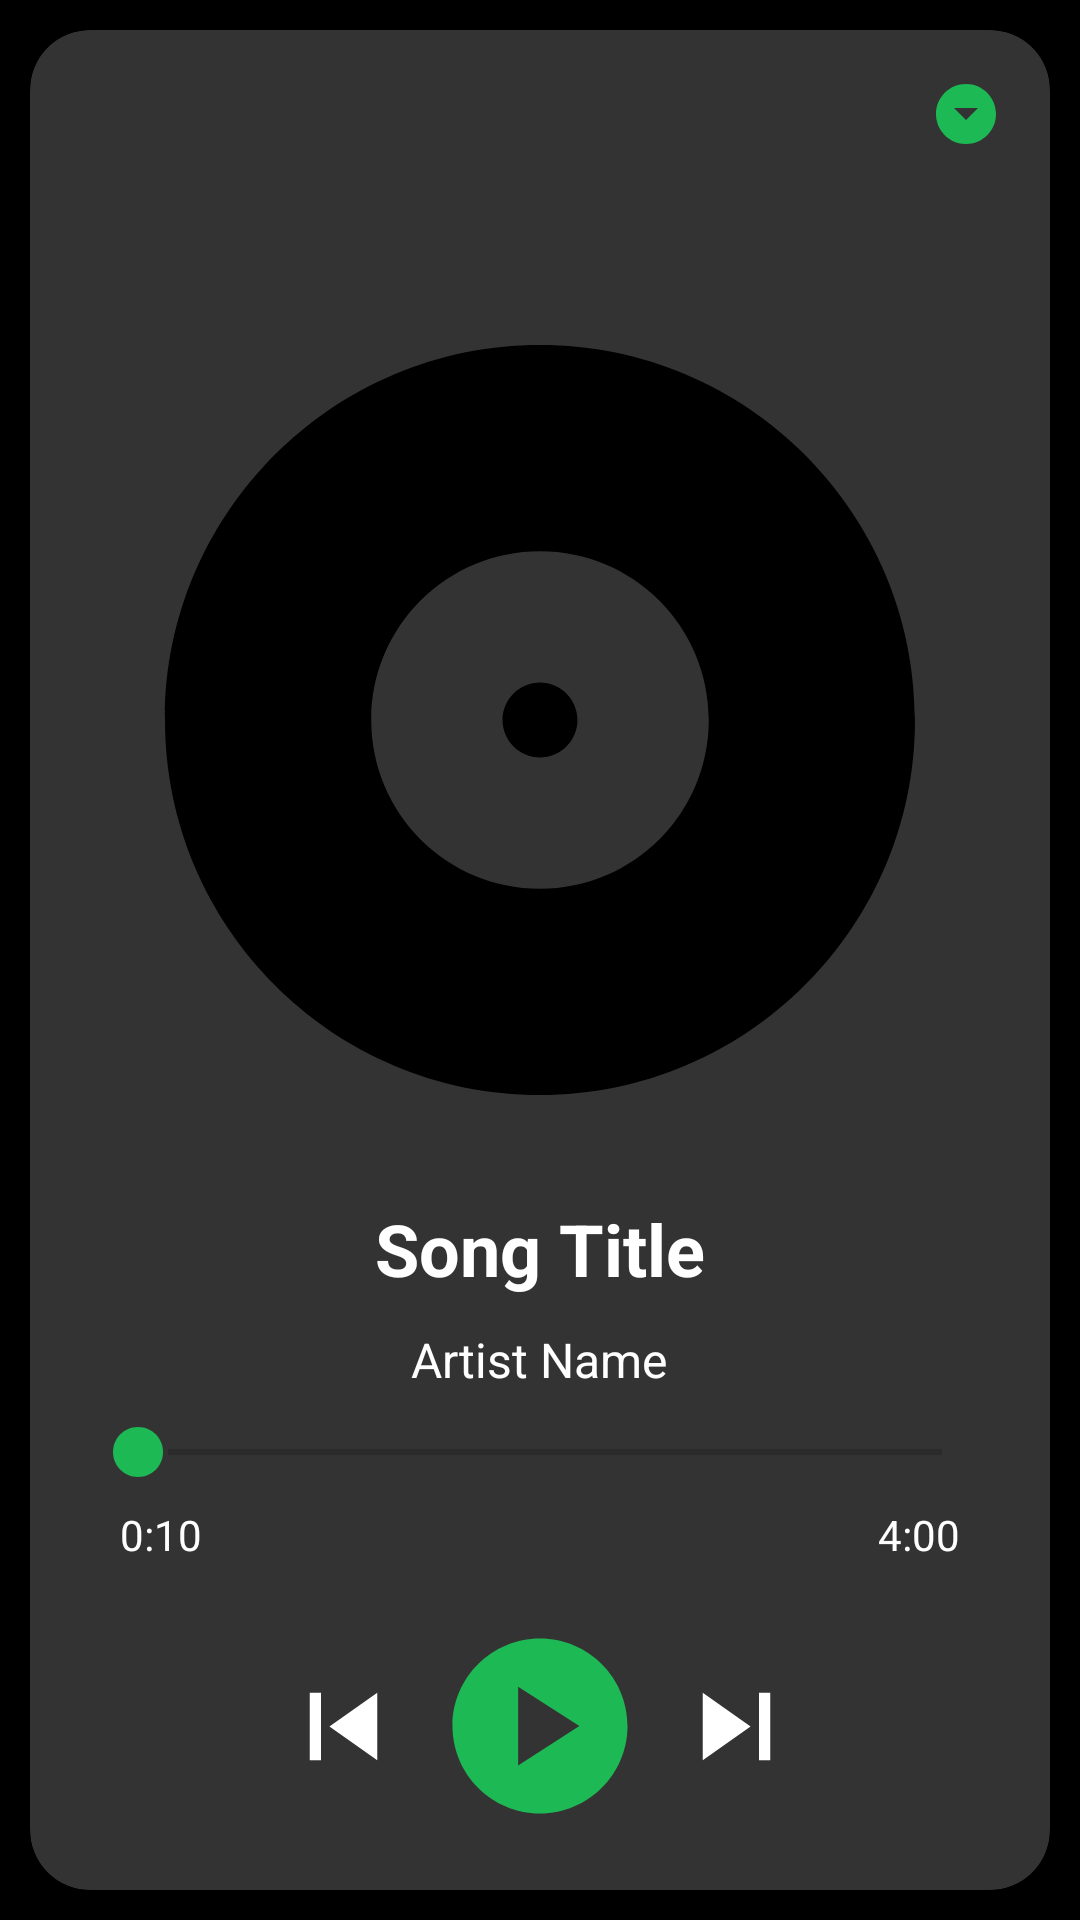

Named icons in this screenshot (1080x1920) and their bounding boxes, (x1, y1, x2, y2):
down: (936, 84, 996, 144)
next: (702, 1692, 771, 1761)
play: (452, 1638, 628, 1814)
previous: (309, 1692, 378, 1761)
